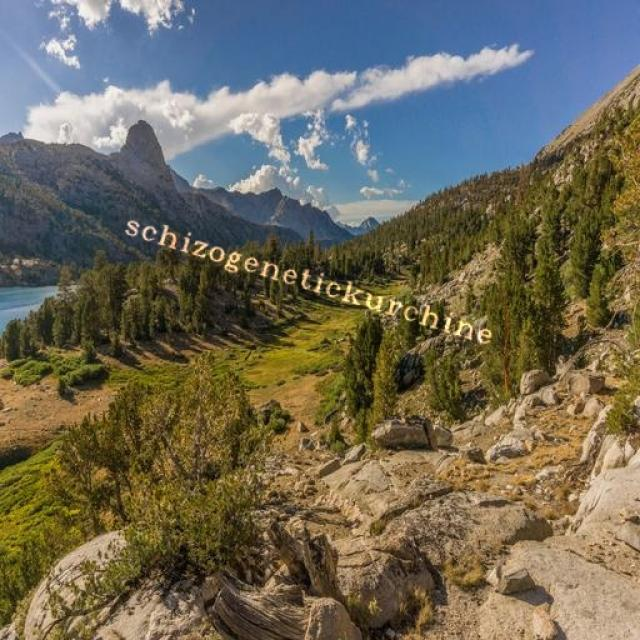watermark: (114, 210, 511, 349)
